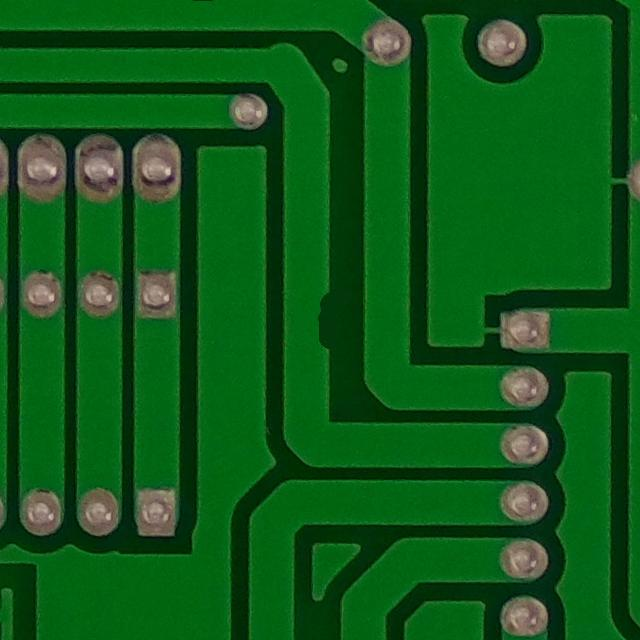mouse_bite: (278, 276, 362, 365)
